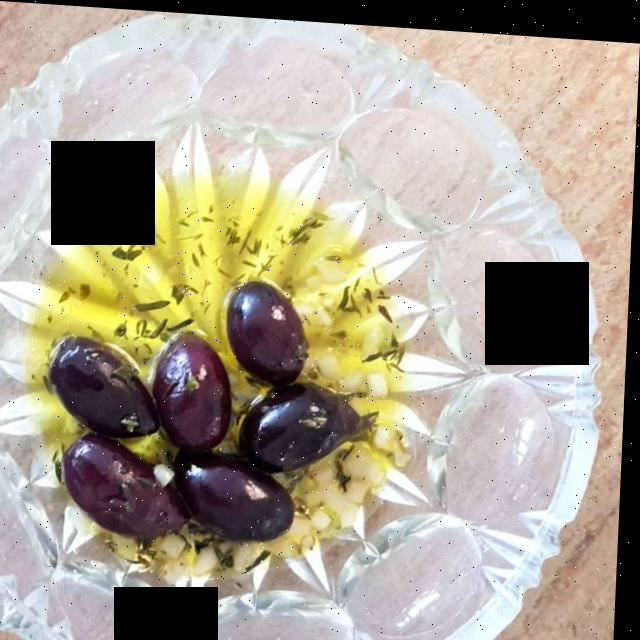black-olives: (60, 274, 345, 529)
